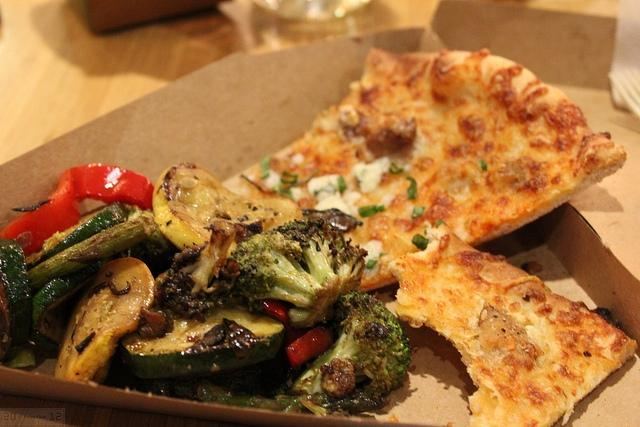bell pepper: (7, 164, 154, 255), (286, 326, 333, 366), (260, 299, 288, 324)
broccoli: (225, 218, 368, 329), (292, 290, 412, 394), (27, 216, 159, 298), (154, 220, 240, 320)
